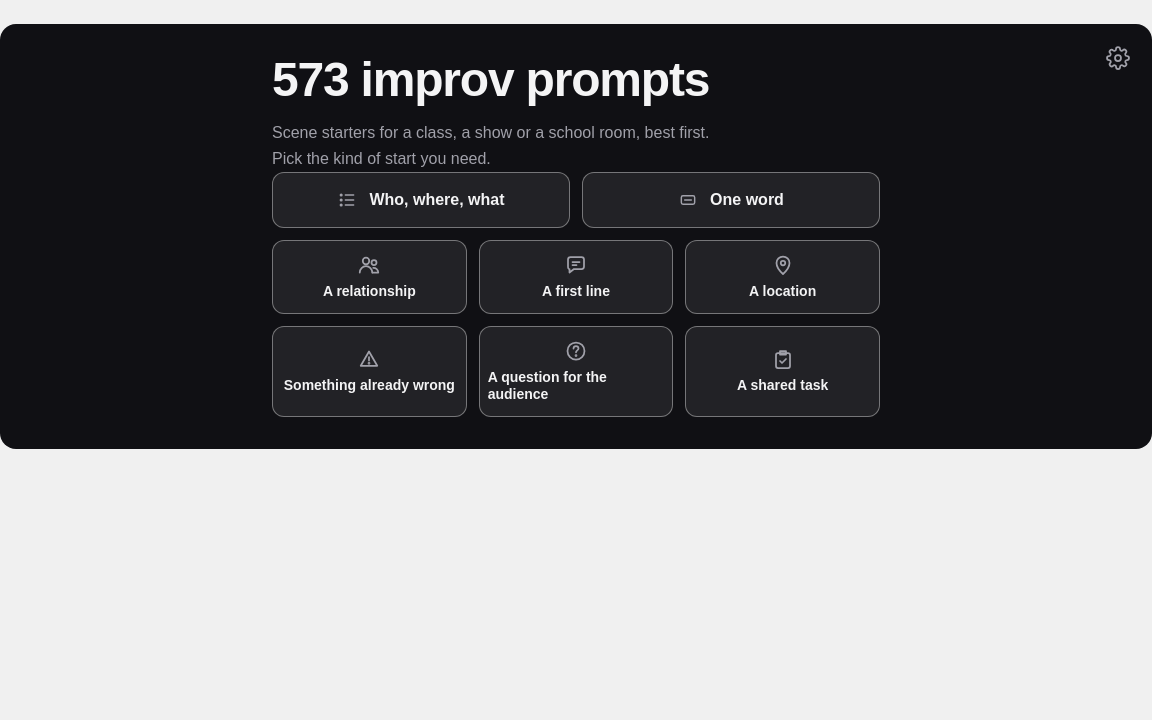
Test case: the keys and the clock › draws another on Enter or Space and changes kind on K, from the page and not from a button
Click the button "A relationship": coordinates (369, 277) [272, 240, 467, 314]
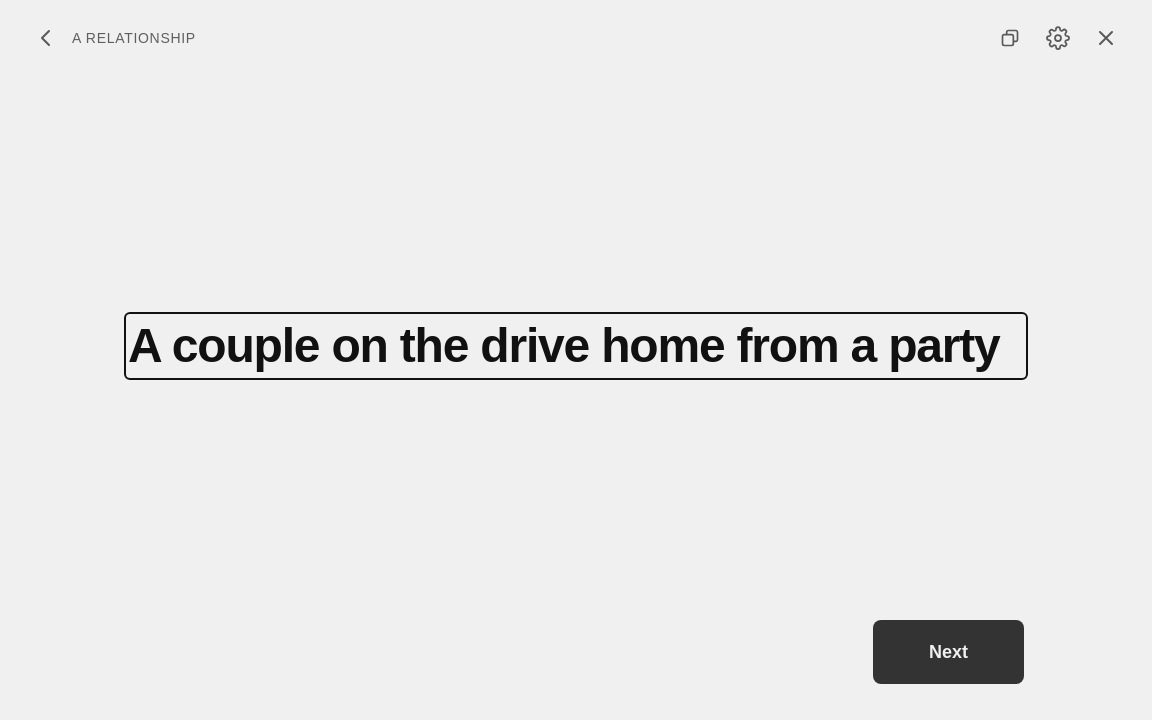
Press Enter
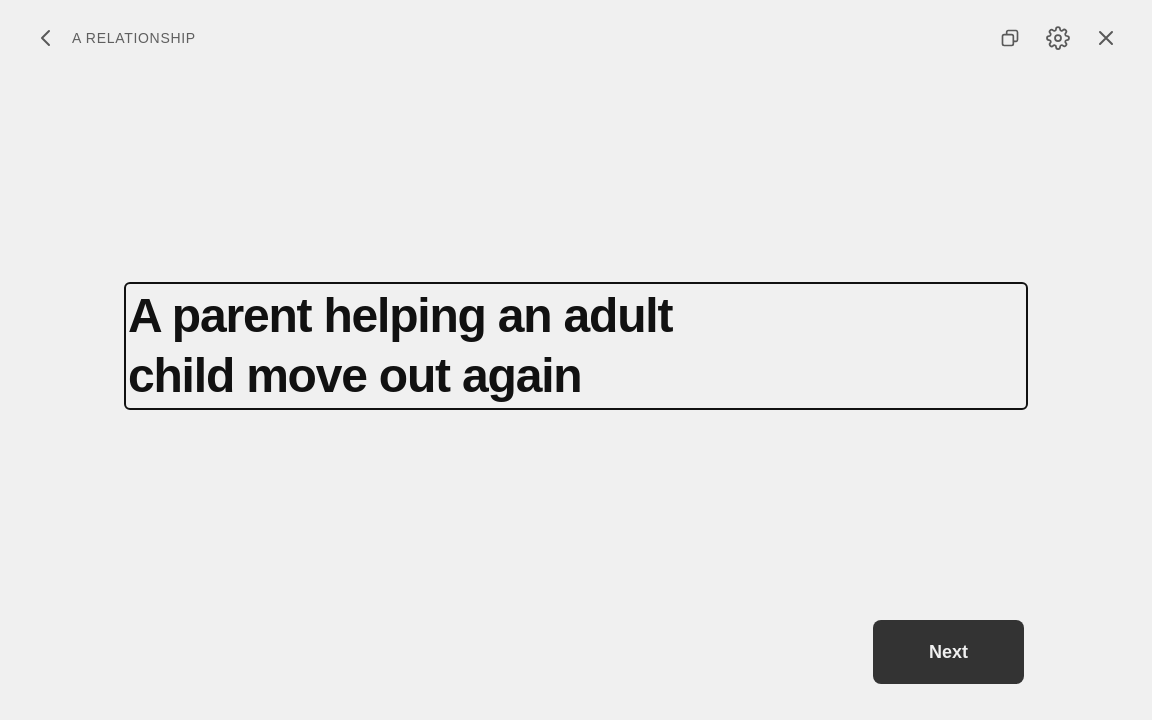
Press Space
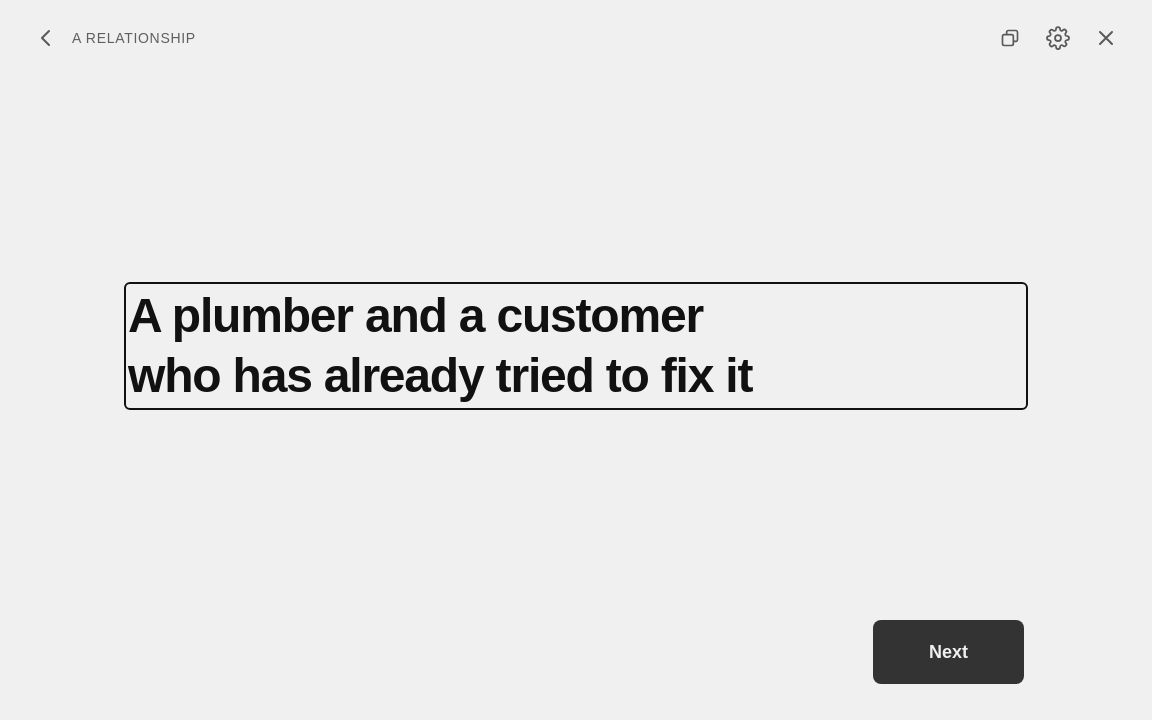
Press Space in the button "Next", box [873, 620, 1024, 684]
Press k
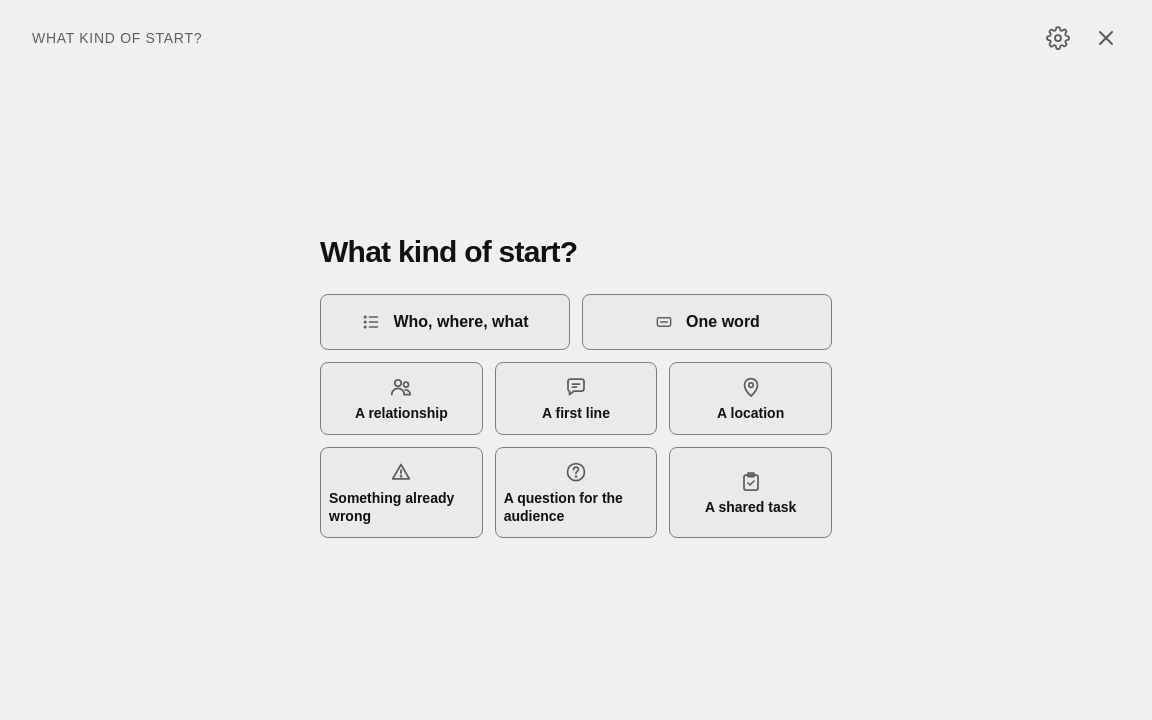
Expected: the button "Who, where, what" is shown, [320, 294, 570, 350]
